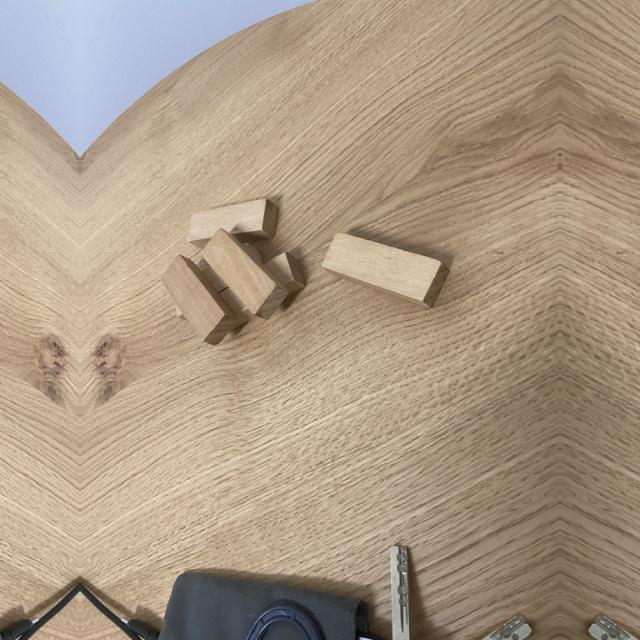jenga: (321, 233, 450, 308), (202, 228, 288, 320), (162, 254, 238, 345), (188, 199, 278, 249), (242, 242, 287, 290), (264, 252, 306, 296), (219, 288, 255, 330), (198, 259, 228, 292), (175, 306, 186, 321)
